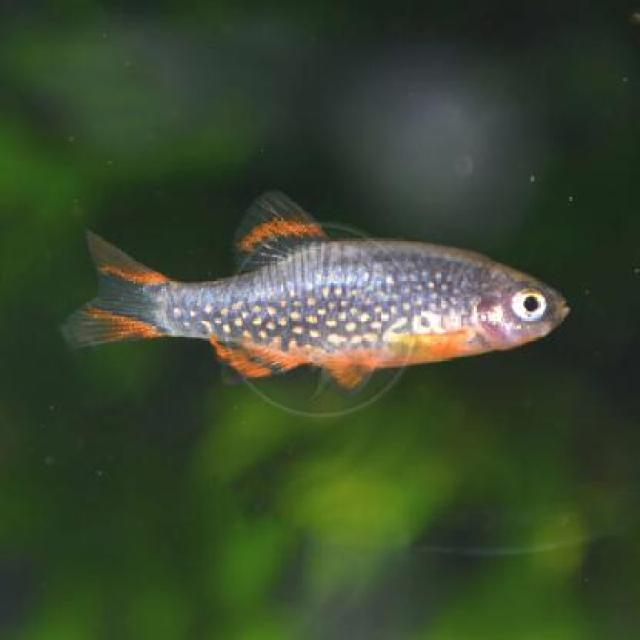ZebraFish: (88, 199, 570, 376)
